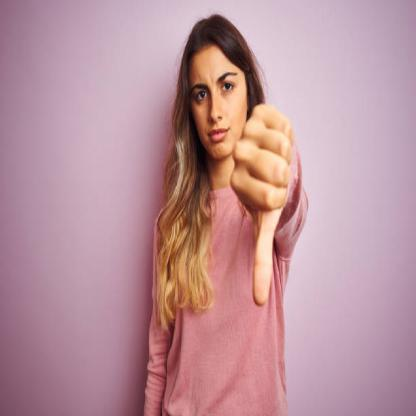thumb_down: (228, 99, 298, 308)
